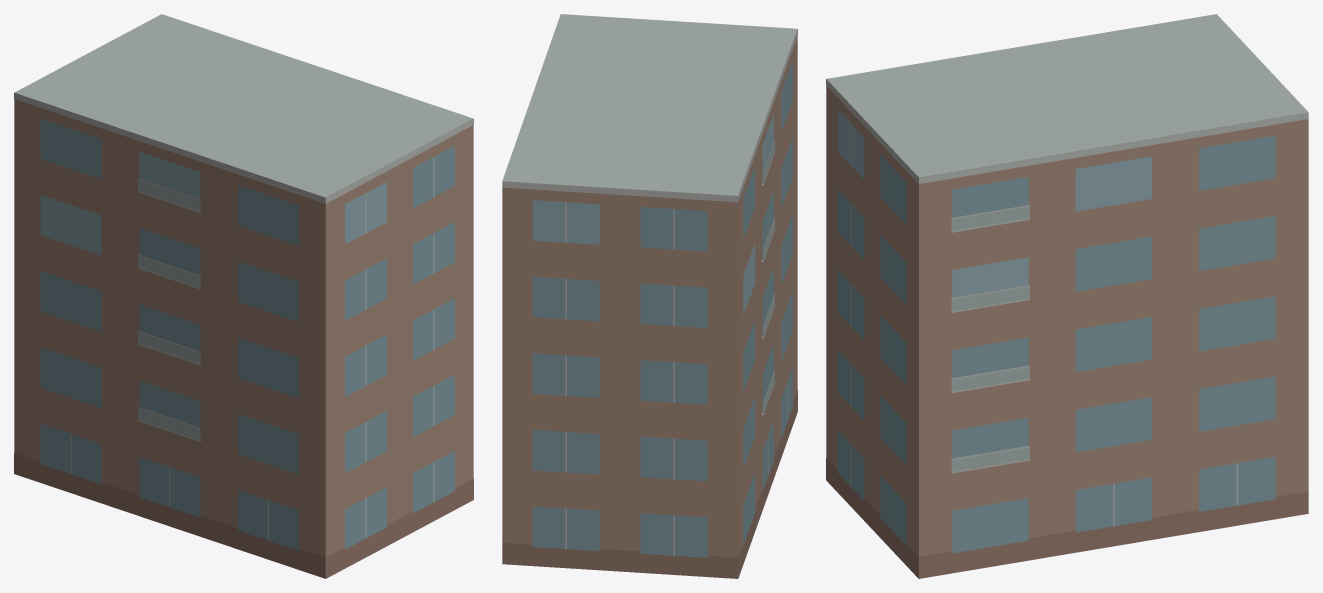
Rendered from survey-upis-32881617.glb.
3 renders of one model, left to right at view 1: azimuth 30°, elevation 25°; view 2: azimuth 150°, elevation 25°; view 3: azimuth 270°, elevation 25°, orthographic. The views are drawn at different scales.
Parts seen in each view (by area): view 1: survey-upis-32881617.tmp; view 2: survey-upis-32881617.tmp; view 3: survey-upis-32881617.tmp.
Part boxes in pixels (left/top/right/bottom): survey-upis-32881617.tmp: left=14, top=14, right=473, bottom=578; survey-upis-32881617.tmp: left=502, top=14, right=797, bottom=578; survey-upis-32881617.tmp: left=826, top=14, right=1308, bottom=578.
Bounding box in the file's own units: 12.89 × 14.75 × 16.08.
